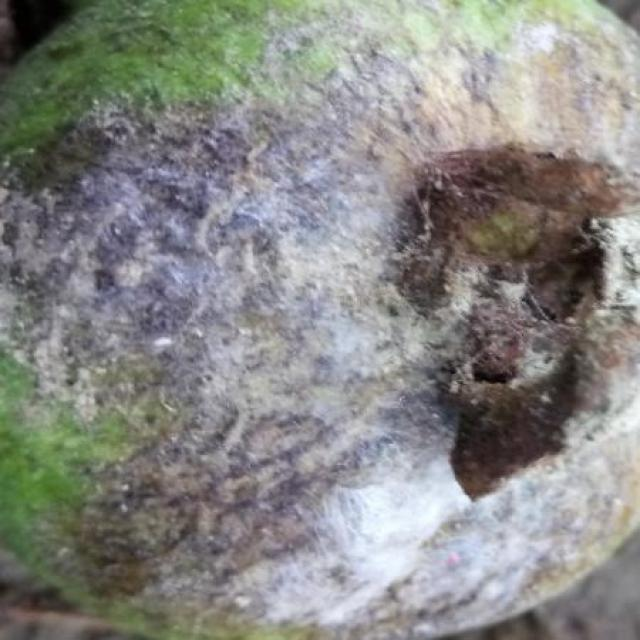Phytopthora: (0, 0, 640, 639)
